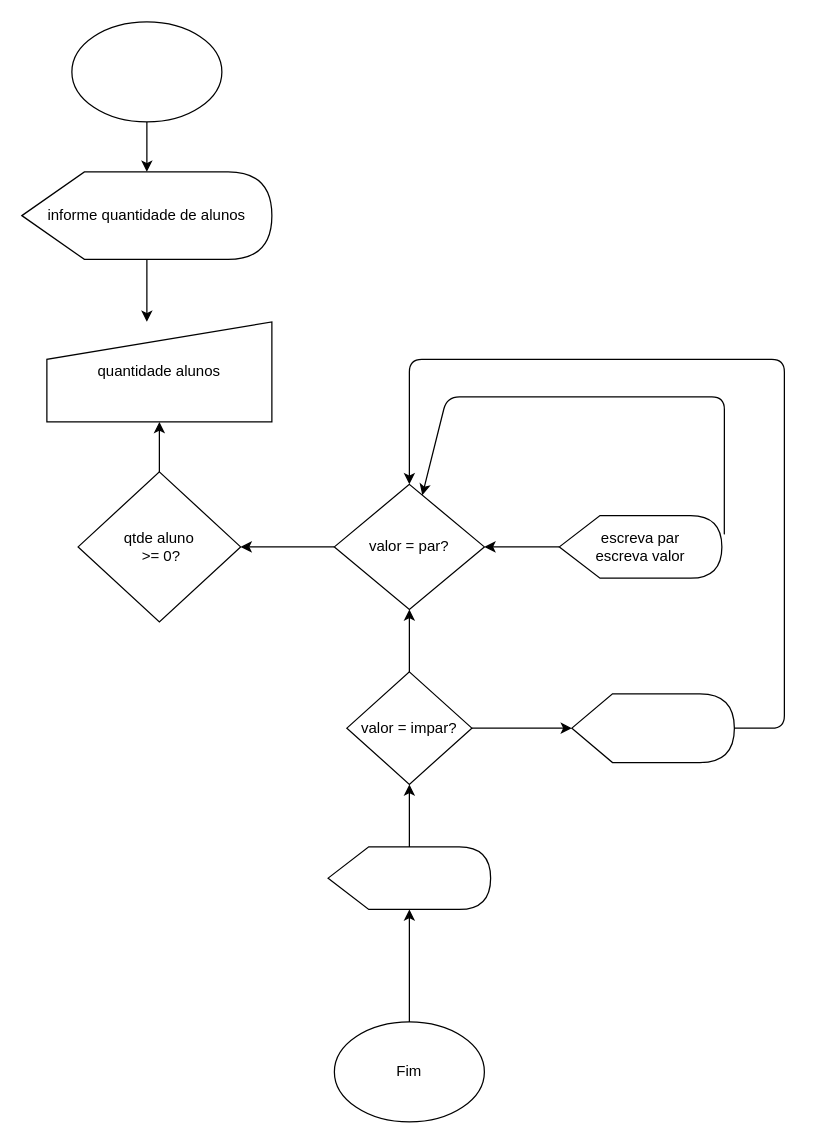
This 816x1144 diagram has some shape labels left out. The box of each missing label's shape, as (x1, y1, x2, y2) in pixels:
escreva impar escreva valor: (571, 692, 734, 762)
escreva zero escreva valor: (327, 846, 491, 909)
Inicio: (71, 21, 222, 122)
